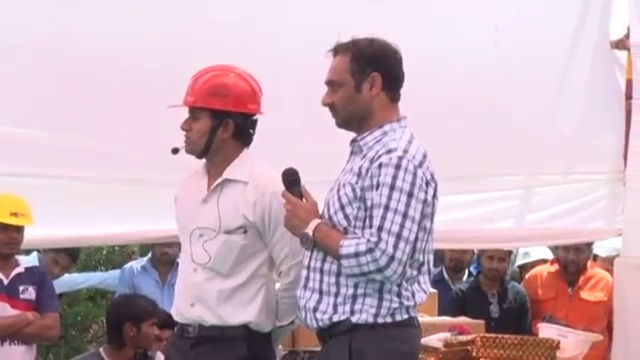helmet: (168, 61, 267, 117), (536, 323, 605, 359), (0, 189, 35, 233), (513, 243, 556, 272)
helmet_off: (321, 36, 412, 137), (104, 295, 164, 360), (36, 248, 77, 286), (146, 239, 185, 275), (555, 241, 594, 276), (478, 251, 512, 285), (446, 243, 476, 276)
helmet_on: (168, 59, 267, 171), (1, 189, 33, 262)
person: (281, 29, 438, 360), (167, 65, 307, 358), (522, 236, 615, 354), (0, 192, 61, 357), (456, 250, 530, 330), (122, 236, 188, 317), (430, 248, 478, 318)
